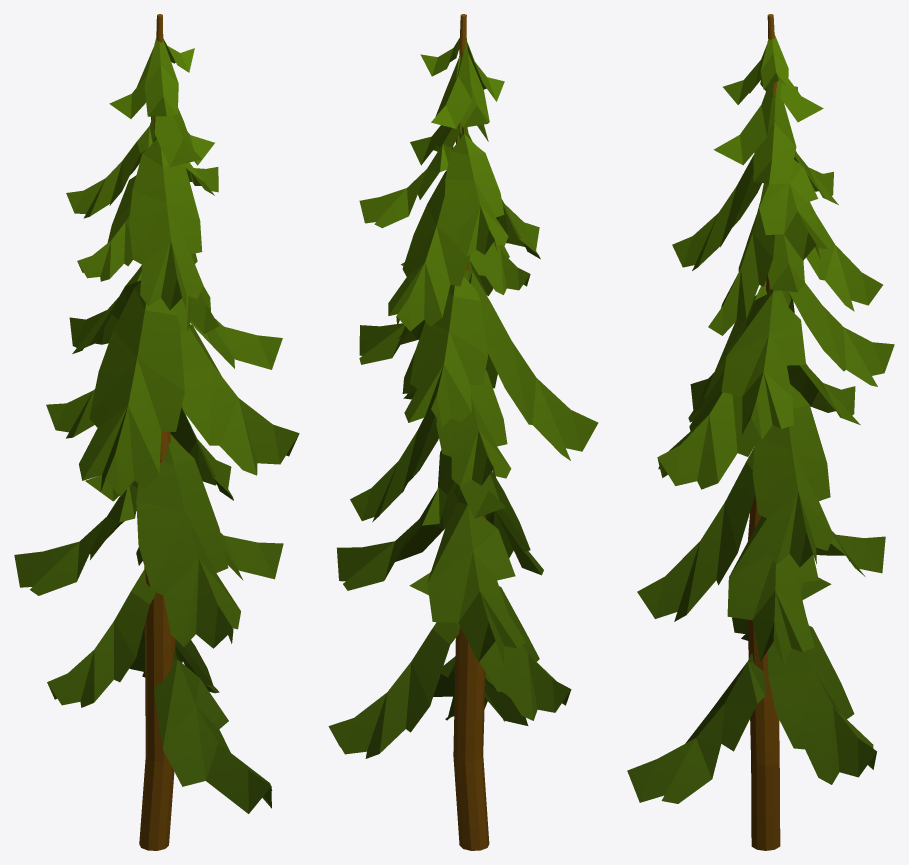
Rendered from coniferous_trees_08.glb.
The picture shows the model from 3 angles, left to right: view 1: azimuth 30°, elevation 25°; view 2: azimuth 150°, elevation 25°; view 3: azimuth 270°, elevation 25°; orthographic projection.
Parts seen in each view (by area): view 1: coniferous_trees_08; view 2: coniferous_trees_08; view 3: coniferous_trees_08.
Boxes of the visible parts, bbox=[...] form: coniferous_trees_08: bbox=[14, 14, 299, 850]; coniferous_trees_08: bbox=[328, 14, 598, 850]; coniferous_trees_08: bbox=[627, 14, 894, 850].
Bounding box in the file's own units: 1.23 × 4.14 × 1.2.
